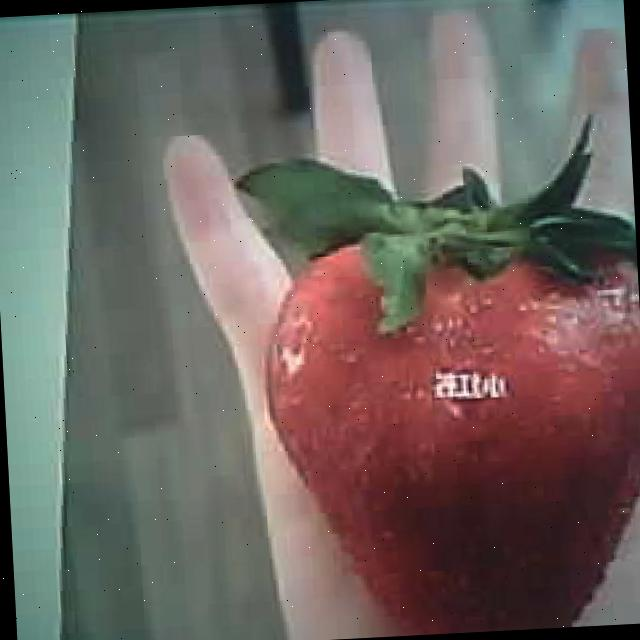strawberry: (256, 205, 640, 640)
